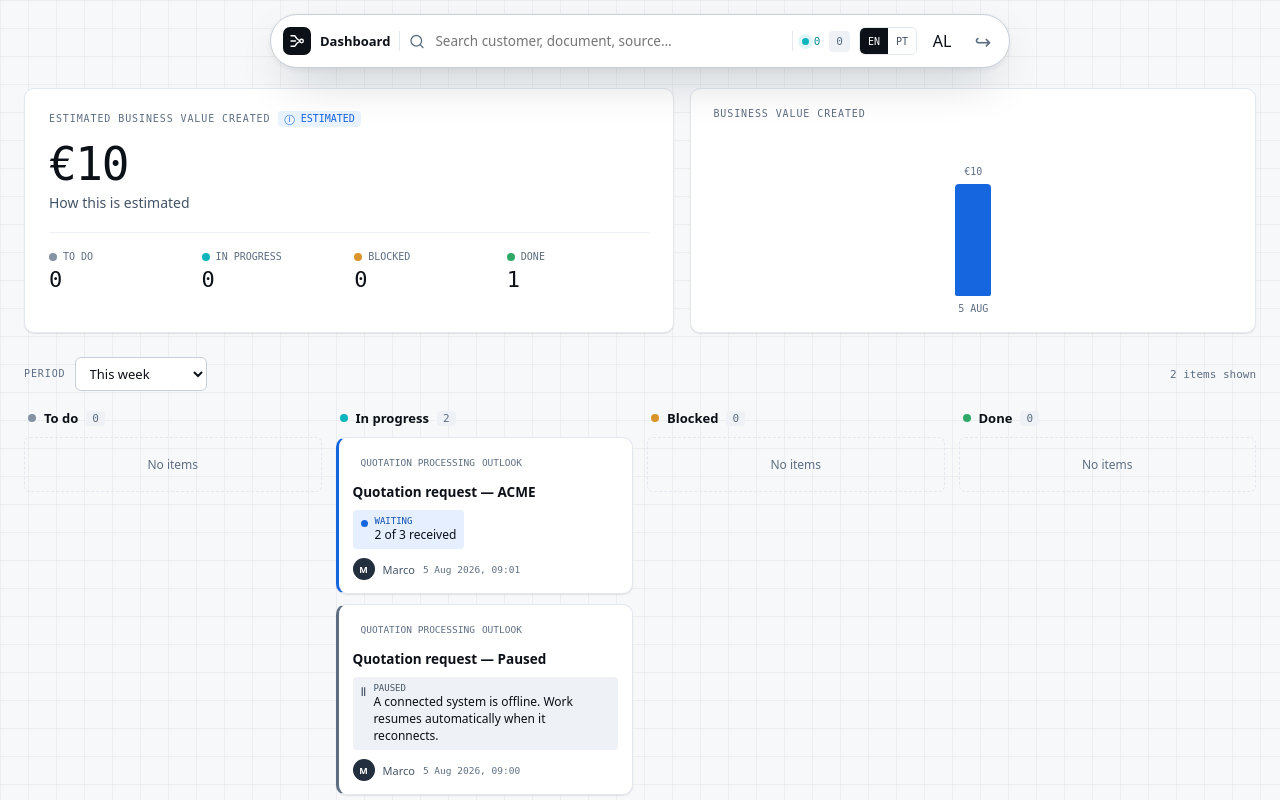
Test: Platform v1 Dashboard › shows waiting and paused work as active, never Blocked, and stops a wait on request
Expected: the text "2 of 3 received" is shown, [374, 526, 456, 543]
Expected: the text "A connected system is offline. Work resumes automatically when it reconnects." is shown, [373, 693, 573, 744]
Click the text "Quotation request — ACME". click: (444, 492)
box: [352, 483, 536, 501]
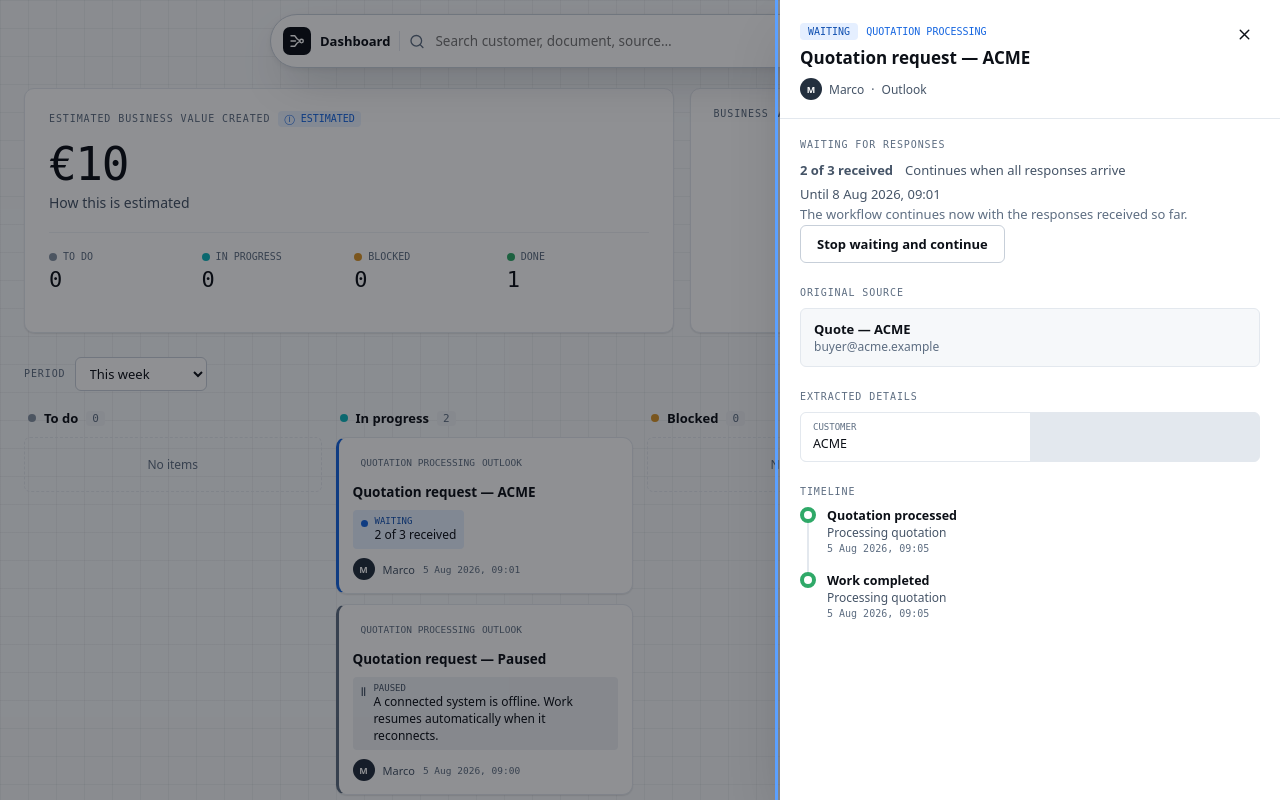
Expected: the heading "Waiting for responses" is shown, [800, 139, 945, 150]
Click the button "Stop waiting and continue". click: (902, 244)
box: [800, 224, 1005, 262]
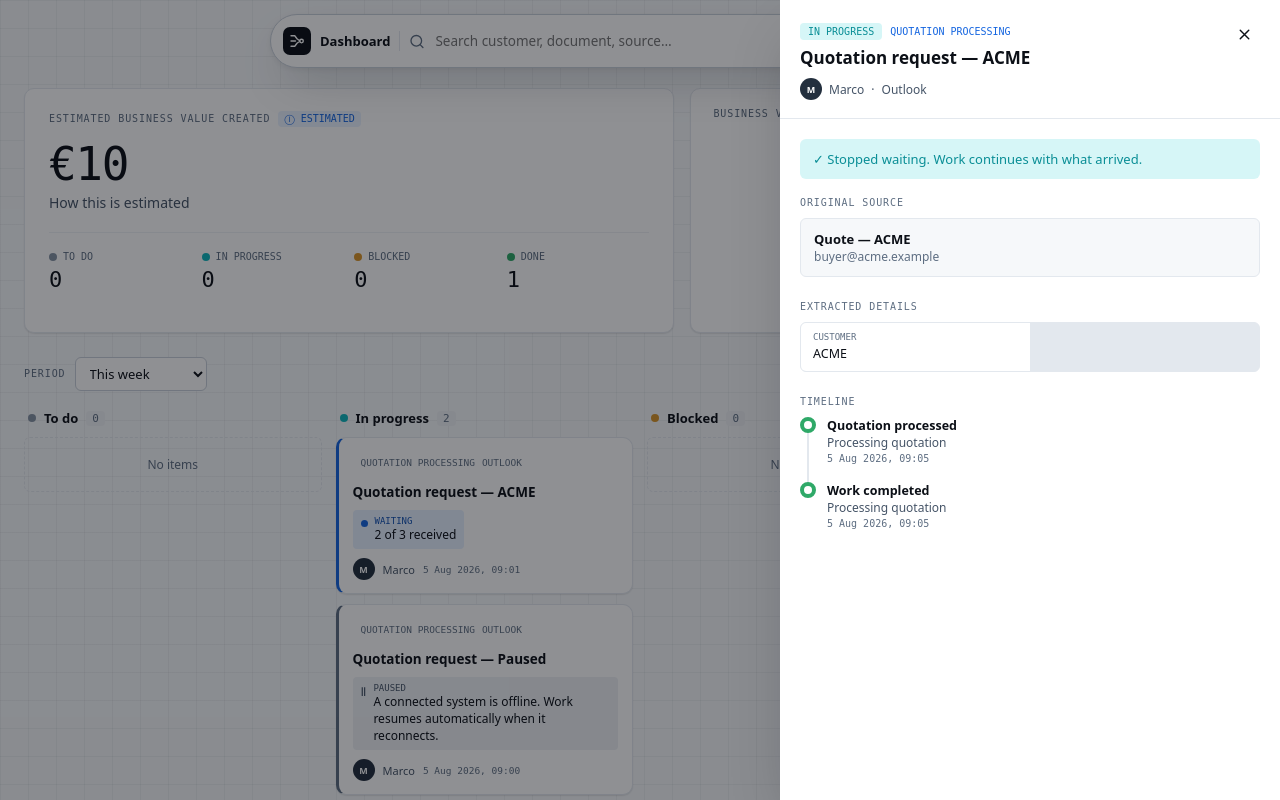
Expected: the message shows "Stopped waiting. Work continues with what arrived.", [827, 150, 1142, 168]
